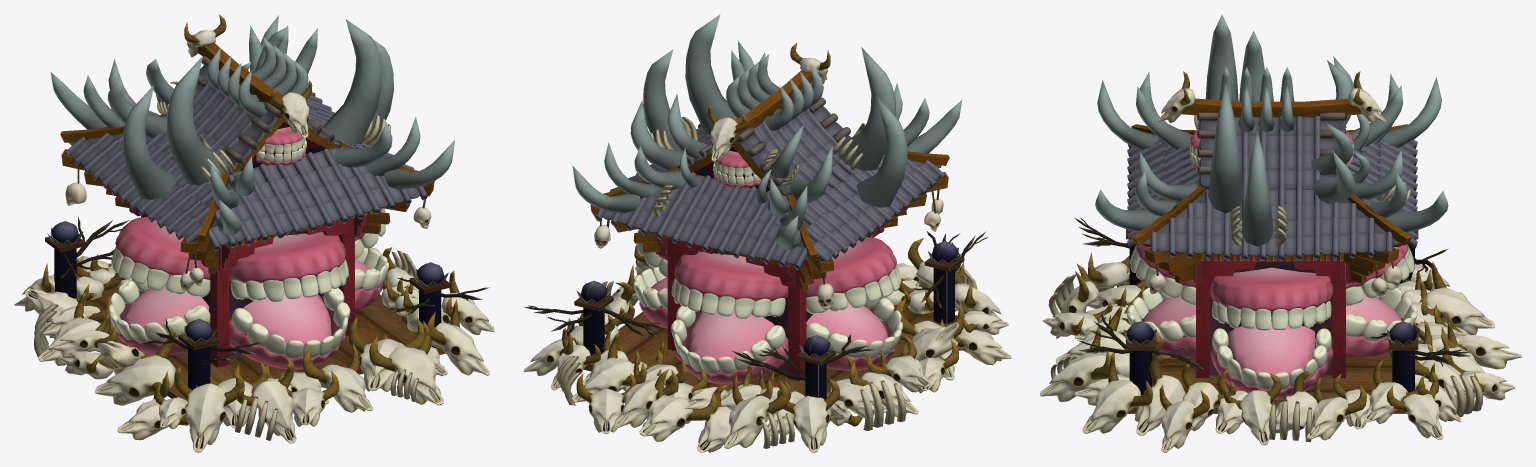
File: shrine.glb
The picture shows the model from 3 angles, left to right: view 1: azimuth 30°, elevation 25°; view 2: azimuth 150°, elevation 25°; view 3: azimuth 270°, elevation 25°; orthographic projection. The views are drawn at different scales.
Visible parts, largest first — view 1: Shrine2_Shrine_Material_0, Bull_Skulls1_Bull_Skull_Material_0, Horns1_Extra_Stuff_Material_0, Mouths1_Mouths_Material_0, Skulls_Human_Skull_Material_0; view 2: Shrine2_Shrine_Material_0, Horns1_Extra_Stuff_Material_0, Bull_Skulls1_Bull_Skull_Material_0, Mouths1_Mouths_Material_0, Skulls_Human_Skull_Material_0; view 3: Shrine2_Shrine_Material_0, Bull_Skulls1_Bull_Skull_Material_0, Horns1_Extra_Stuff_Material_0, Mouths1_Mouths_Material_0, Skulls_Human_Skull_Material_0.
Boxes of the visible parts, x1,y1,x2,y2 form: Shrine2_Shrine_Material_0: (45,43,450,400); Bull_Skulls1_Bull_Skull_Material_0: (14,14,494,452); Horns1_Extra_Stuff_Material_0: (34,15,490,440); Mouths1_Mouths_Material_0: (108,127,389,369); Skulls_Human_Skull_Material_0: (65,182,431,290); Shrine2_Shrine_Material_0: (574,70,964,421); Horns1_Extra_Stuff_Material_0: (523,14,988,448); Bull_Skulls1_Bull_Skull_Material_0: (523,42,1011,452); Mouths1_Mouths_Material_0: (633,150,902,384); Skulls_Human_Skull_Material_0: (594,199,943,310); Shrine2_Shrine_Material_0: (1124,98,1419,413); Bull_Skulls1_Bull_Skull_Material_0: (1040,71,1521,452); Horns1_Extra_Stuff_Material_0: (1048,14,1483,442); Mouths1_Mouths_Material_0: (1127,130,1417,399); Skulls_Human_Skull_Material_0: (1148,265,1402,297).
Size of the model in its own units: 0.3617 by 0.3038 by 0.4001.
5 materials, 5 textured.
